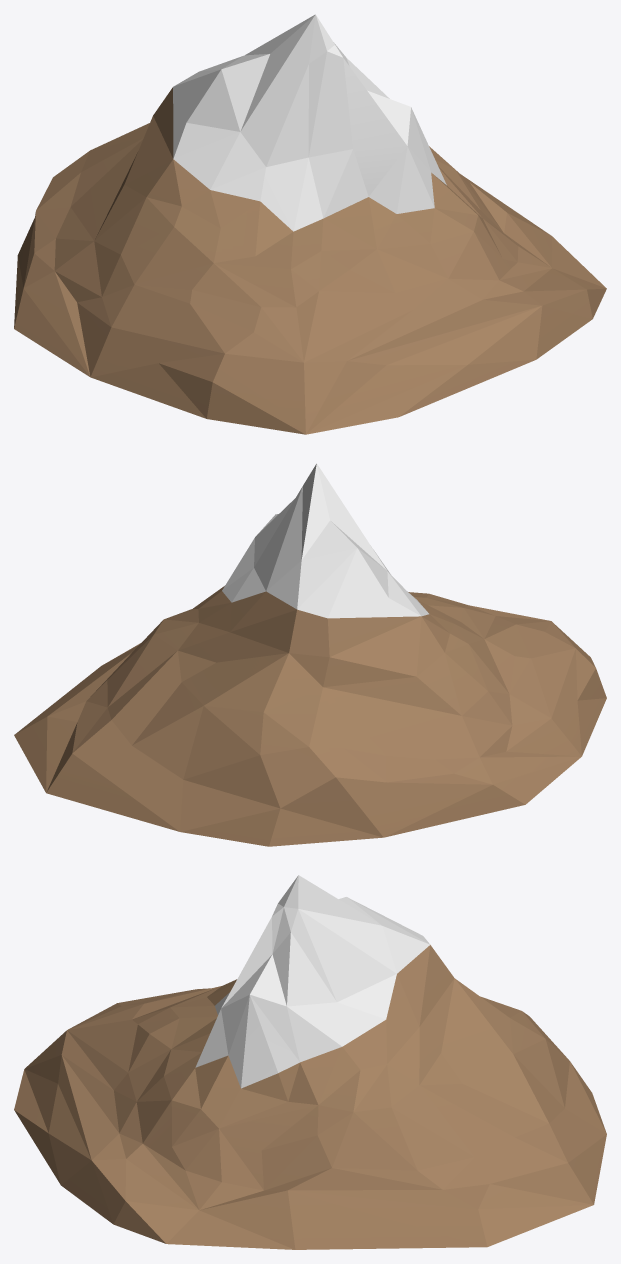
File: Mountain_01.fbx
3 renders of one model, top to bottom at view 1: azimuth 30°, elevation 25°; view 2: azimuth 150°, elevation 25°; view 3: azimuth 270°, elevation 25°, orthographic. The views are drawn at different scales.
Parts seen in each view (by area): view 1: Mountain_01; view 2: Mountain_01; view 3: Mountain_01.
Boxes of the visible parts, <box> form: Mountain_01: <box>14,14,606,434</box>; Mountain_01: <box>14,463,606,846</box>; Mountain_01: <box>14,875,606,1249</box>.
Bounding box in the file's own units: 6139 × 3270 × 6618.
